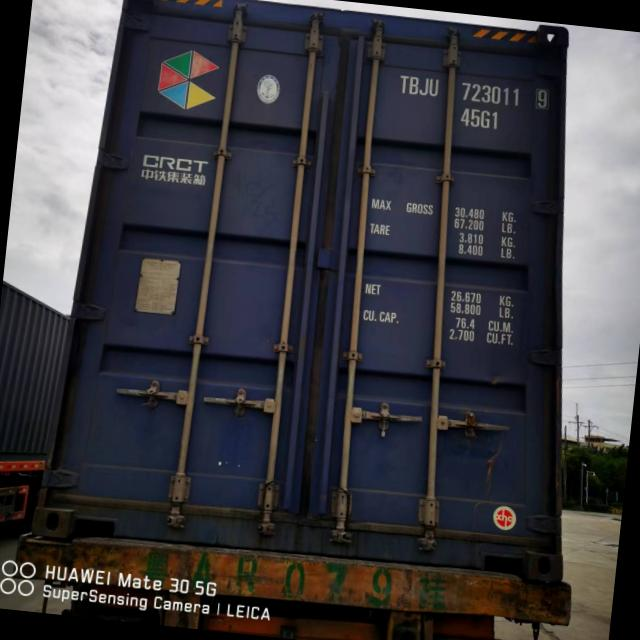seal: (376, 396, 394, 443)
